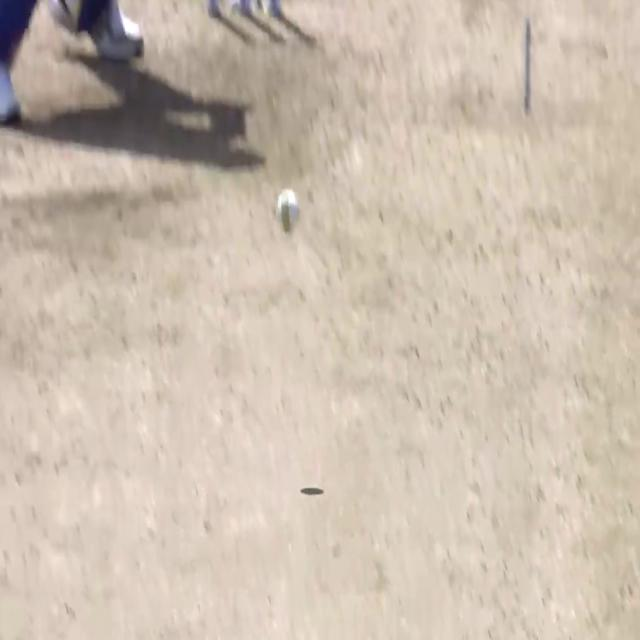ball: (276, 187, 302, 230)
